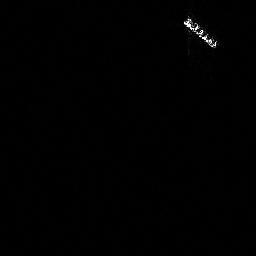ship: (180, 15, 221, 51)
